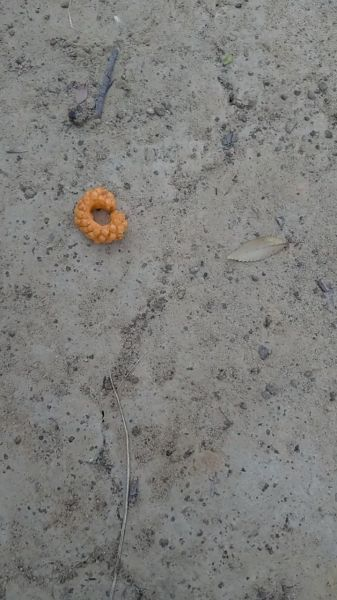eggs: (74, 177, 137, 250)
